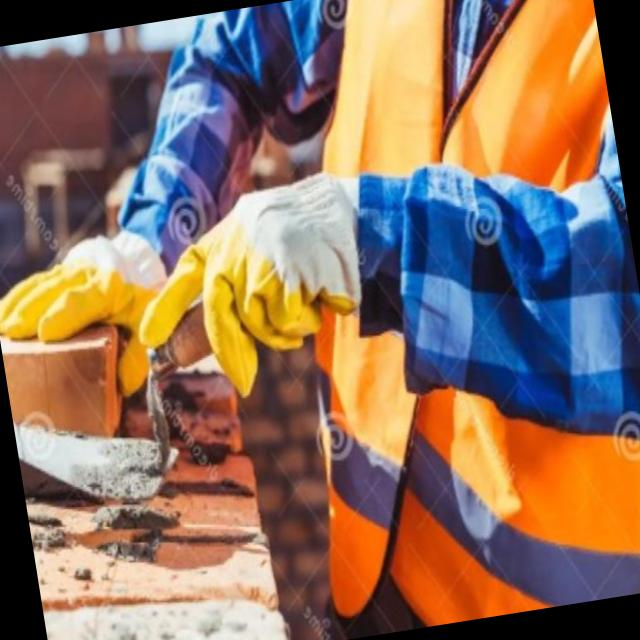gloved: (101, 134, 398, 432), (0, 201, 194, 422)
